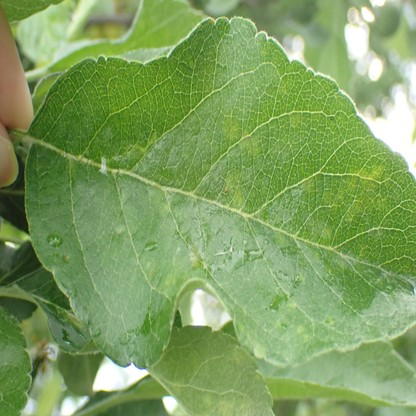scab: (342, 166, 383, 220), (236, 321, 264, 356), (218, 392, 250, 416), (151, 187, 170, 217), (226, 174, 241, 206), (240, 139, 258, 163), (140, 255, 154, 283), (224, 121, 238, 144), (189, 246, 199, 268), (302, 178, 316, 191), (275, 232, 286, 248), (320, 228, 333, 241), (323, 191, 334, 206), (297, 272, 307, 286), (165, 275, 176, 285), (290, 112, 298, 125), (202, 396, 212, 406), (285, 300, 295, 310), (324, 315, 334, 325), (303, 335, 310, 344), (298, 325, 303, 333)
